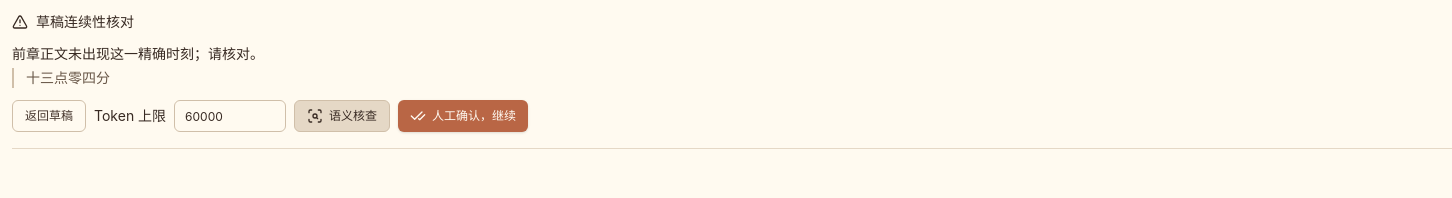
Scenario: does not approve when semantic review fails and disables invalid budgets
Replace the text in the number field labelled "Token 上限" with "0" at (230, 116), box [174,100,286,132]
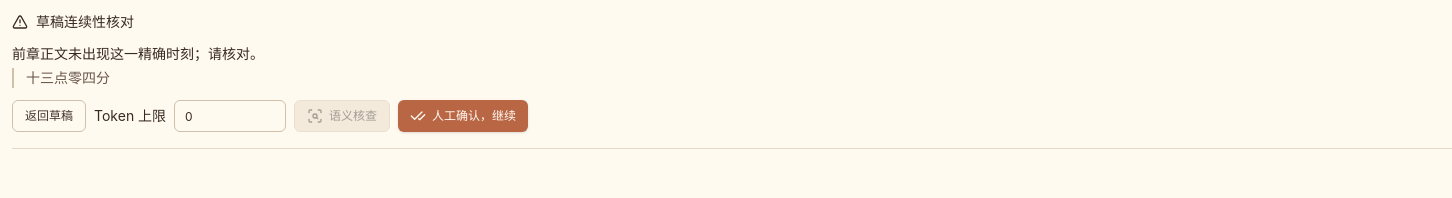
Check: the button "语义核查" is disabled, box [294,100,390,132]
Replace the text in the number field labelled "Token 上限" with "60000" at (230, 116), box [174,100,286,132]
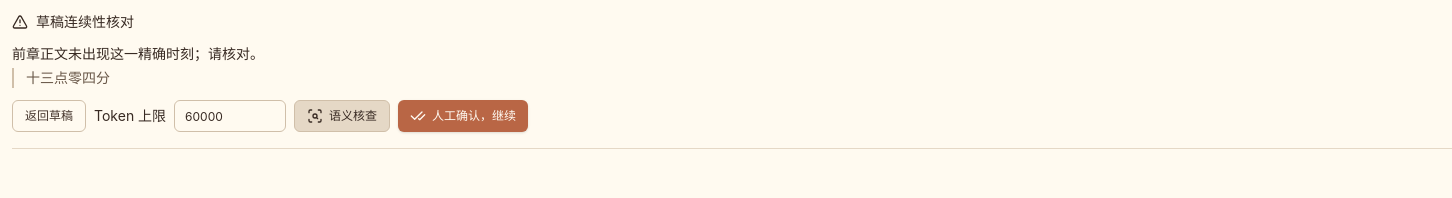
Click the button "语义核查" at (342, 116), box [294,100,390,132]
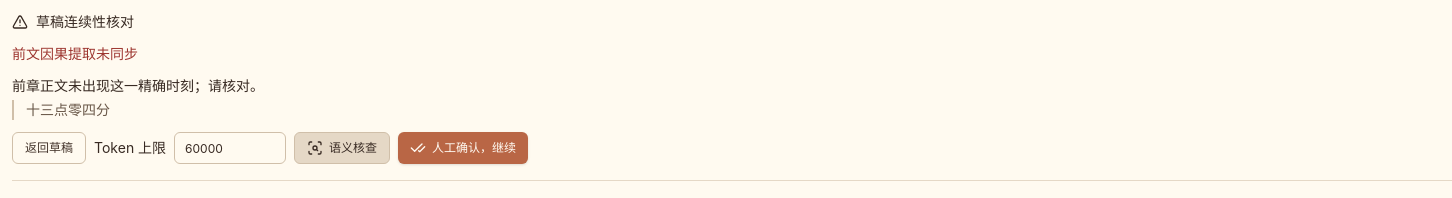
Check: the text "前文因果提取未同步" is shown, box [12,45,138,62]
